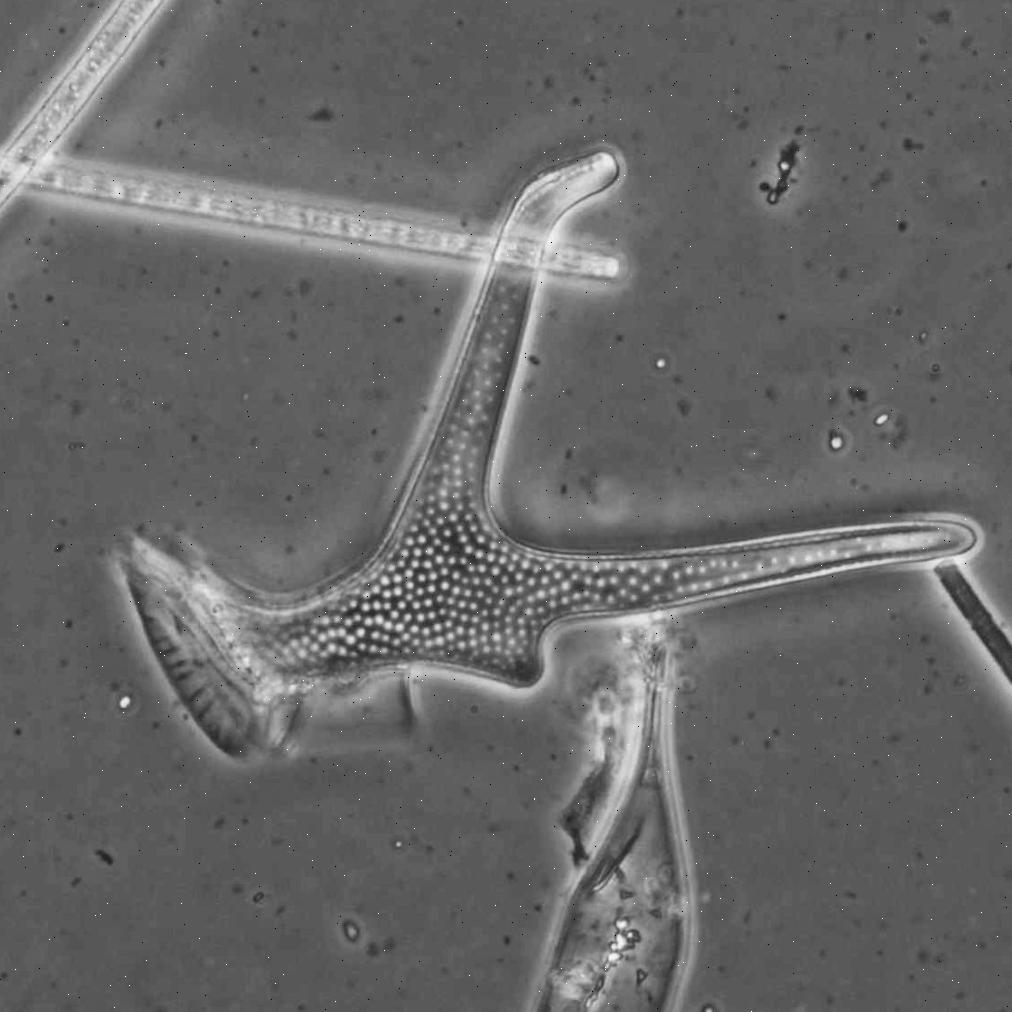dinophysis_miles: (120, 150, 972, 761)
